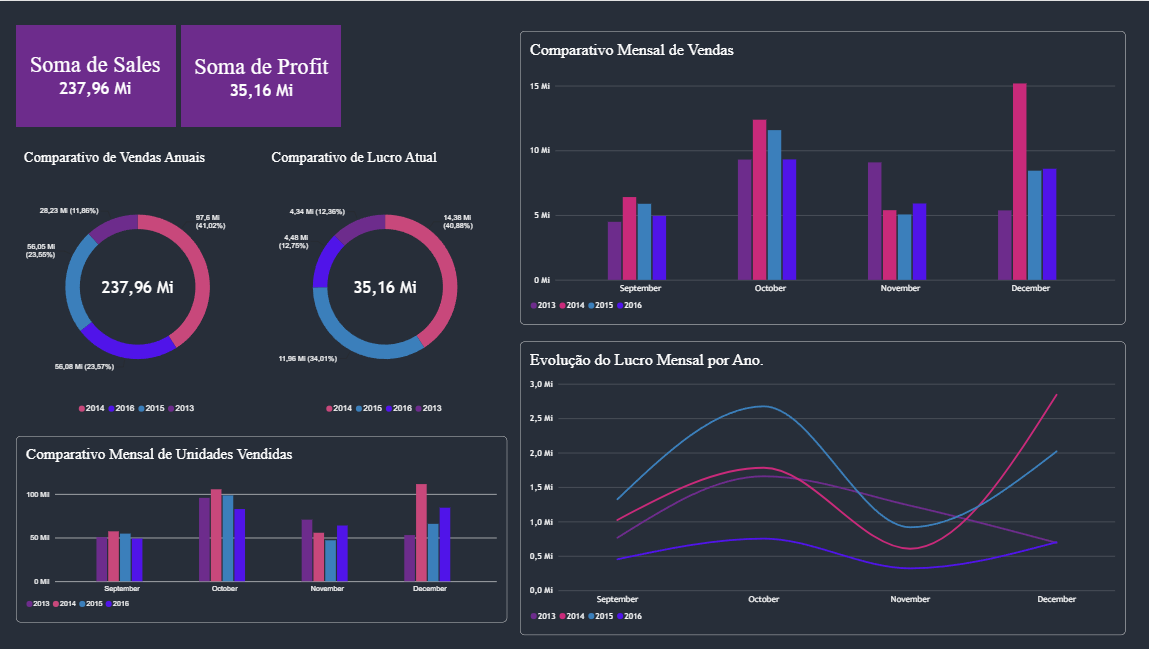

Layout of this report page (visuals, bound fields, positions):
{"tool":"powerbi","page":{"name":"Sales Performance","canvas":[1920,1080],"ordinal":0},"visuals":[{"type":"clusteredColumnChart","title":"Comparativo Mensal de Vendas","fields":{"Category":["Sales GERAL.Month Name"],"Series":["Sales GERAL.Year"],"Y":["Sum(Sales GERAL. Sales)"]},"box":[870.9,50.1,1009.2,489.1],"z":0},{"type":"clusteredColumnChart","title":"Comparativo Mensal de Unidades Vendidas","fields":{"Category":["Sales 2013_2014.Month Name"],"Series":["Sales 2013_2014.Year"],"Y":["Sum(Sales 2013_2014.Units Sold)"]},"box":[30.8,725.6,818.4,310.5],"z":1000},{"type":"shape","box":[31,40.6,266.7,170],"z":2000},{"type":"shape","box":[305.4,40.6,266.7,170],"z":3000},{"type":"cardVisual","fields":{"Data":["Sum(Sales 2013_2014.Profit)"]},"box":[272,21.5,333.3,210],"z":4000},{"type":"cardVisual","fields":{"Data":["Sum(Sales 2013_2014. Sales)"]},"box":[31,31,264.3,188.6],"z":5000},{"type":"lineChart","title":"Evolução do Lucro Mensal por Ano.","fields":{"Category":["Sales 2013_2014.Month Name"],"Series":["Sales 2013_2014.Year"],"Y":["Sum(Sales 2013_2014.Profit)"]},"box":[870,567.5,1009.2,489.1],"z":6000},{"type":"donutChart","title":"Comparativo de Vendas Anuais","fields":{"Category":["Sales GERAL.Year"],"Y":["Sum(Sales GERAL. Sales)"]},"box":[28.6,231.4,410.4,477.2],"z":7000},{"type":"donutChart","title":"Comparativo de Lucro Atual","fields":{"Category":["Sales GERAL.Year"],"Y":["Sum(Sales GERAL.Profit)"]},"box":[439,231.4,410.4,477.2],"z":8000}]}

Visuals, with their boxes in screenshot pixels (x1, y1, x2, y2), scaled from the page's 1920x1080 canvas onto the 1149x649 screenshot:
"Comparativo Mensal de Vendas" clusteredColumnChart: region(521, 30, 1125, 324)
"Comparativo Mensal de Unidades Vendidas" clusteredColumnChart: region(18, 436, 508, 623)
shape: region(19, 24, 178, 127)
shape: region(183, 24, 342, 127)
cardVisual - Sum(Sales 2013_2014.Profit): region(163, 13, 362, 139)
cardVisual - Sum(Sales 2013_2014. Sales): region(19, 19, 177, 132)
"Evolução do Lucro Mensal por Ano." lineChart: region(521, 341, 1125, 635)
"Comparativo de Vendas Anuais" donutChart: region(17, 139, 263, 426)
"Comparativo de Lucro Atual" donutChart: region(263, 139, 508, 426)
